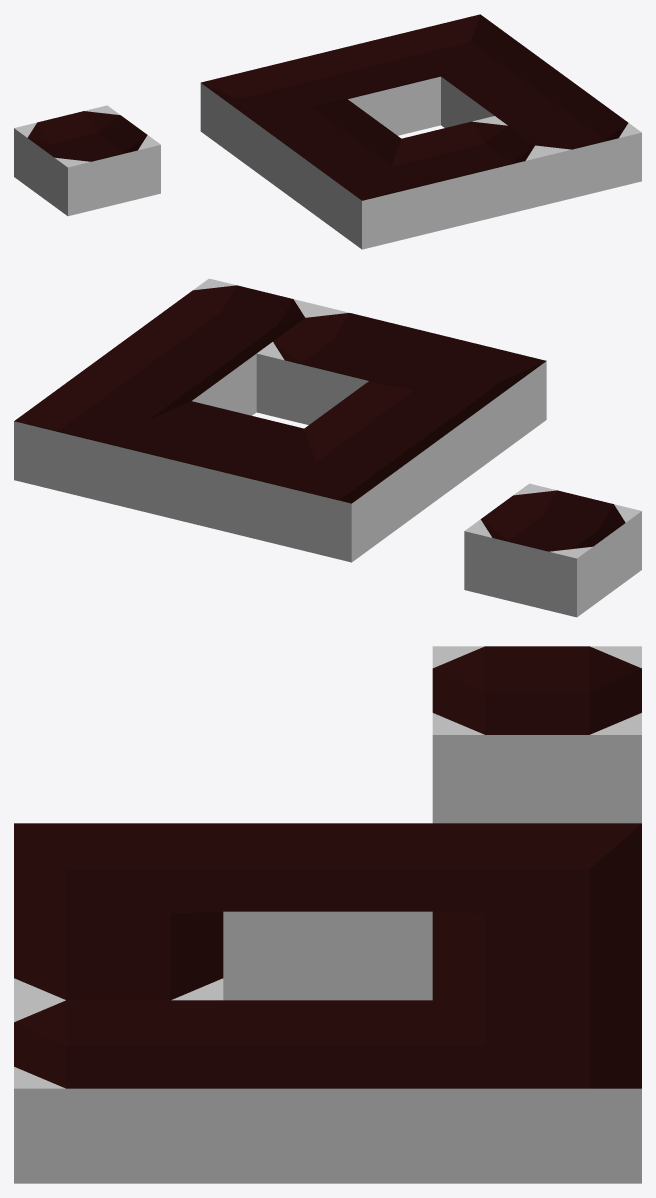
File: 31f_path.obj
3 views of the same model, one above another, from view 1: azimuth 30°, elevation 25°; view 2: azimuth 150°, elevation 25°; view 3: azimuth 270°, elevation 25° (orthographic). The views are drawn at different scales.
Parts seen in each view (by area): view 1: foil.hole.0.4_Cube.213, foil.corner.2.2_corner.1051, foil.ending.3.2_ending.423, foil.ending.4.2_ending.424, foil.through.3.4_through.218, foil.corner.2.4_corner.1052, foil.through.2.3_through.217, foil.through.4.3_through.219, foil.corner.4.4_corner.1053; view 2: foil.hole.0.4_Cube.213, foil.corner.2.4_corner.1052, foil.through.3.4_through.218, foil.corner.4.4_corner.1053, foil.ending.3.2_ending.423, foil.corner.2.2_corner.1051, foil.through.2.3_through.217, foil.through.4.3_through.219, foil.ending.4.2_ending.424; view 3: foil.ending.4.2_ending.424, foil.through.4.3_through.219, foil.through.2.3_through.217, foil.hole.0.4_Cube.213, foil.corner.4.4_corner.1053, foil.corner.2.2_corner.1051, foil.corner.2.4_corner.1052, foil.through.3.4_through.218, foil.ending.3.2_ending.423.
Part boxes in pixels (box(x1,y1,x2,y2)): foil.hole.0.4_Cube.213: box(14, 105, 160, 216); foil.corner.2.2_corner.1051: box(308, 139, 455, 249); foil.ending.3.2_ending.423: box(402, 116, 548, 226); foil.ending.4.2_ending.424: box(495, 93, 641, 203); foil.through.3.4_through.218: box(294, 37, 440, 135); foil.corner.2.4_corner.1052: box(200, 60, 346, 170); foil.through.2.3_through.217: box(254, 99, 401, 209); foil.through.4.3_through.219: box(441, 54, 587, 127); foil.corner.4.4_corner.1053: box(387, 14, 533, 82); foil.hole.0.4_Cube.213: box(464, 483, 641, 617); foil.corner.2.4_corner.1052: box(239, 428, 416, 562); foil.through.3.4_through.218: box(126, 401, 303, 534); foil.corner.4.4_corner.1053: box(14, 374, 191, 507); foil.ending.3.2_ending.423: box(256, 306, 433, 424); foil.corner.2.2_corner.1051: box(369, 333, 546, 466); foil.through.2.3_through.217: box(304, 381, 481, 514); foil.through.4.3_through.219: box(79, 326, 256, 415); foil.ending.4.2_ending.424: box(144, 278, 320, 361); foil.ending.4.2_ending.424: box(14, 1000, 223, 1183); foil.through.4.3_through.219: box(223, 1000, 432, 1183); foil.through.2.3_through.217: box(223, 823, 432, 1000); foil.hole.0.4_Cube.213: box(432, 646, 641, 823); foil.corner.4.4_corner.1053: box(432, 1000, 641, 1183); foil.corner.2.2_corner.1051: box(14, 823, 223, 935); foil.corner.2.4_corner.1052: box(432, 823, 641, 935); foil.through.3.4_through.218: box(432, 912, 641, 1023); foil.ending.3.2_ending.423: box(14, 912, 223, 1000).
Size of the model in its own units: 10 by 1 by 6.
